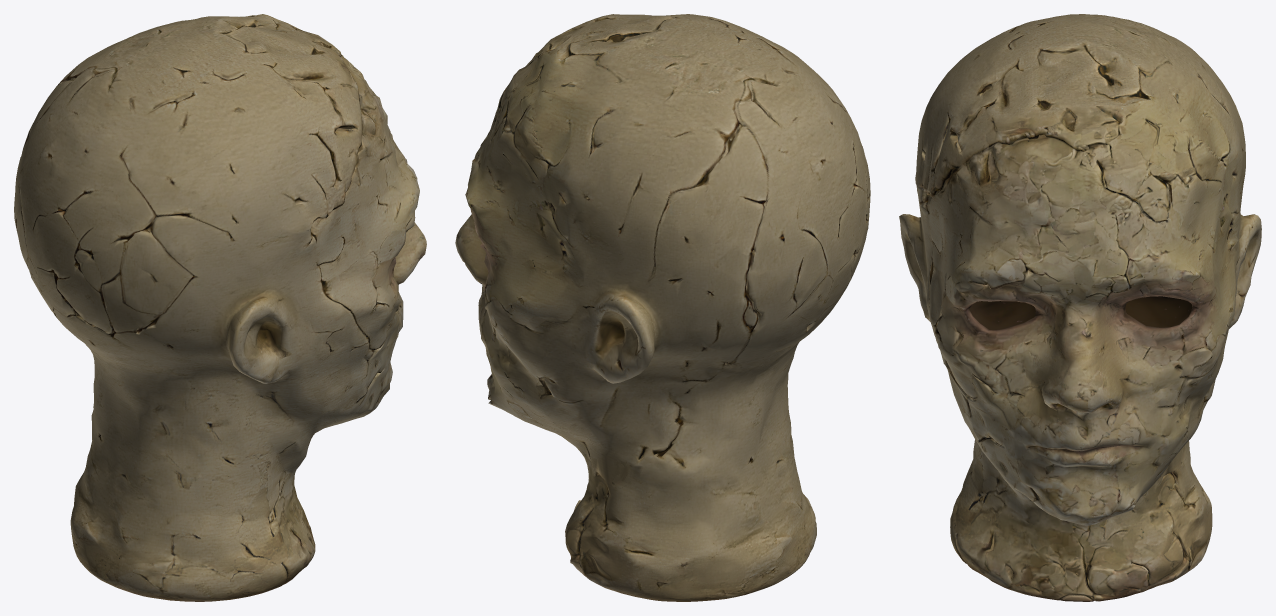
The picture shows the model from 3 angles, left to right: view 1: azimuth 30°, elevation 25°; view 2: azimuth 150°, elevation 25°; view 3: azimuth 270°, elevation 25°; orthographic projection.
Parts seen in each view (by area): view 1: tripo_node_e97105c4-78ae-4437-8f88-44e71294887f; view 2: tripo_node_e97105c4-78ae-4437-8f88-44e71294887f; view 3: tripo_node_e97105c4-78ae-4437-8f88-44e71294887f.
Boxes of the visible parts, x1,y1,x2,y2 form: tripo_node_e97105c4-78ae-4437-8f88-44e71294887f: [14, 14, 426, 601]; tripo_node_e97105c4-78ae-4437-8f88-44e71294887f: [455, 14, 870, 601]; tripo_node_e97105c4-78ae-4437-8f88-44e71294887f: [899, 14, 1261, 601].
Bounding box in the file's own units: 0.7788 × 1 × 0.6277.
Materials: 1 (1 with a texture image).
